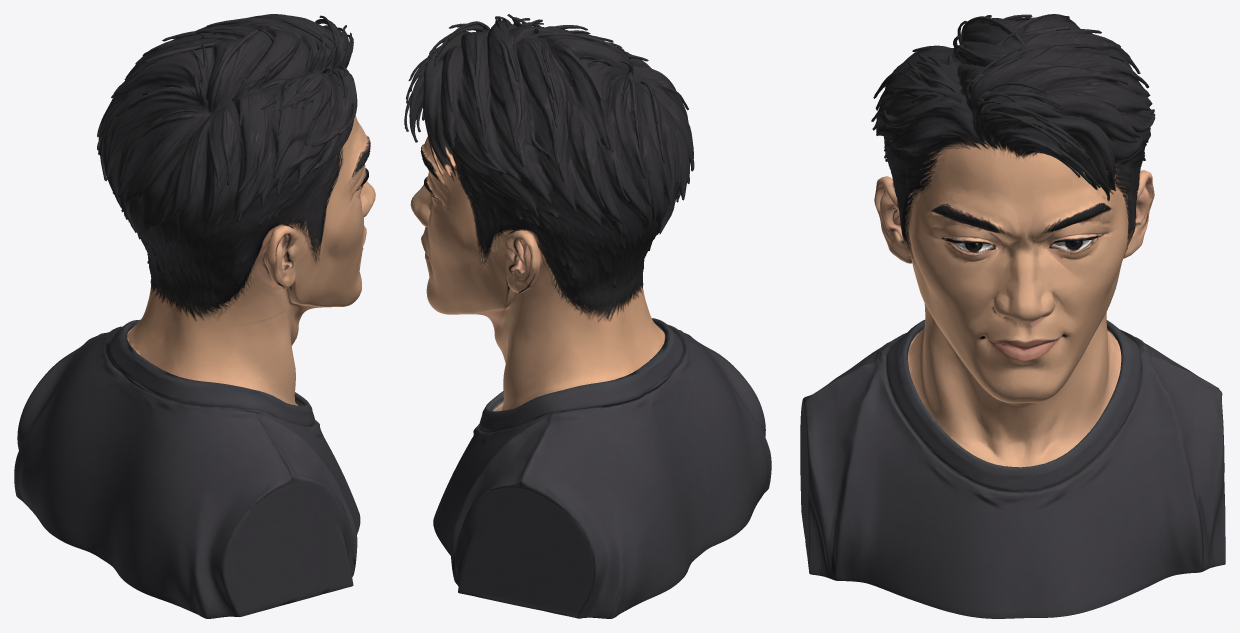
File: yunjun_v3_bust_tripo.glb
The picture shows the model from 3 angles, left to right: view 1: azimuth 30°, elevation 25°; view 2: azimuth 150°, elevation 25°; view 3: azimuth 270°, elevation 25°; orthographic projection. The views are drawn at different scales.
Parts seen in each view (by area): view 1: tripo_node_6f789ed1-d135-4e21-9b7b-4ece818c1485; view 2: tripo_node_6f789ed1-d135-4e21-9b7b-4ece818c1485; view 3: tripo_node_6f789ed1-d135-4e21-9b7b-4ece818c1485.
Part boxes in pixels (x1,y1,x2,y2): tripo_node_6f789ed1-d135-4e21-9b7b-4ece818c1485: (14, 14, 375, 618); tripo_node_6f789ed1-d135-4e21-9b7b-4ece818c1485: (404, 14, 771, 618); tripo_node_6f789ed1-d135-4e21-9b7b-4ece818c1485: (800, 14, 1225, 618).
Bounding box in the file's own units: 0.6117 × 0.9811 × 0.6986.
1 material, 1 textured.
